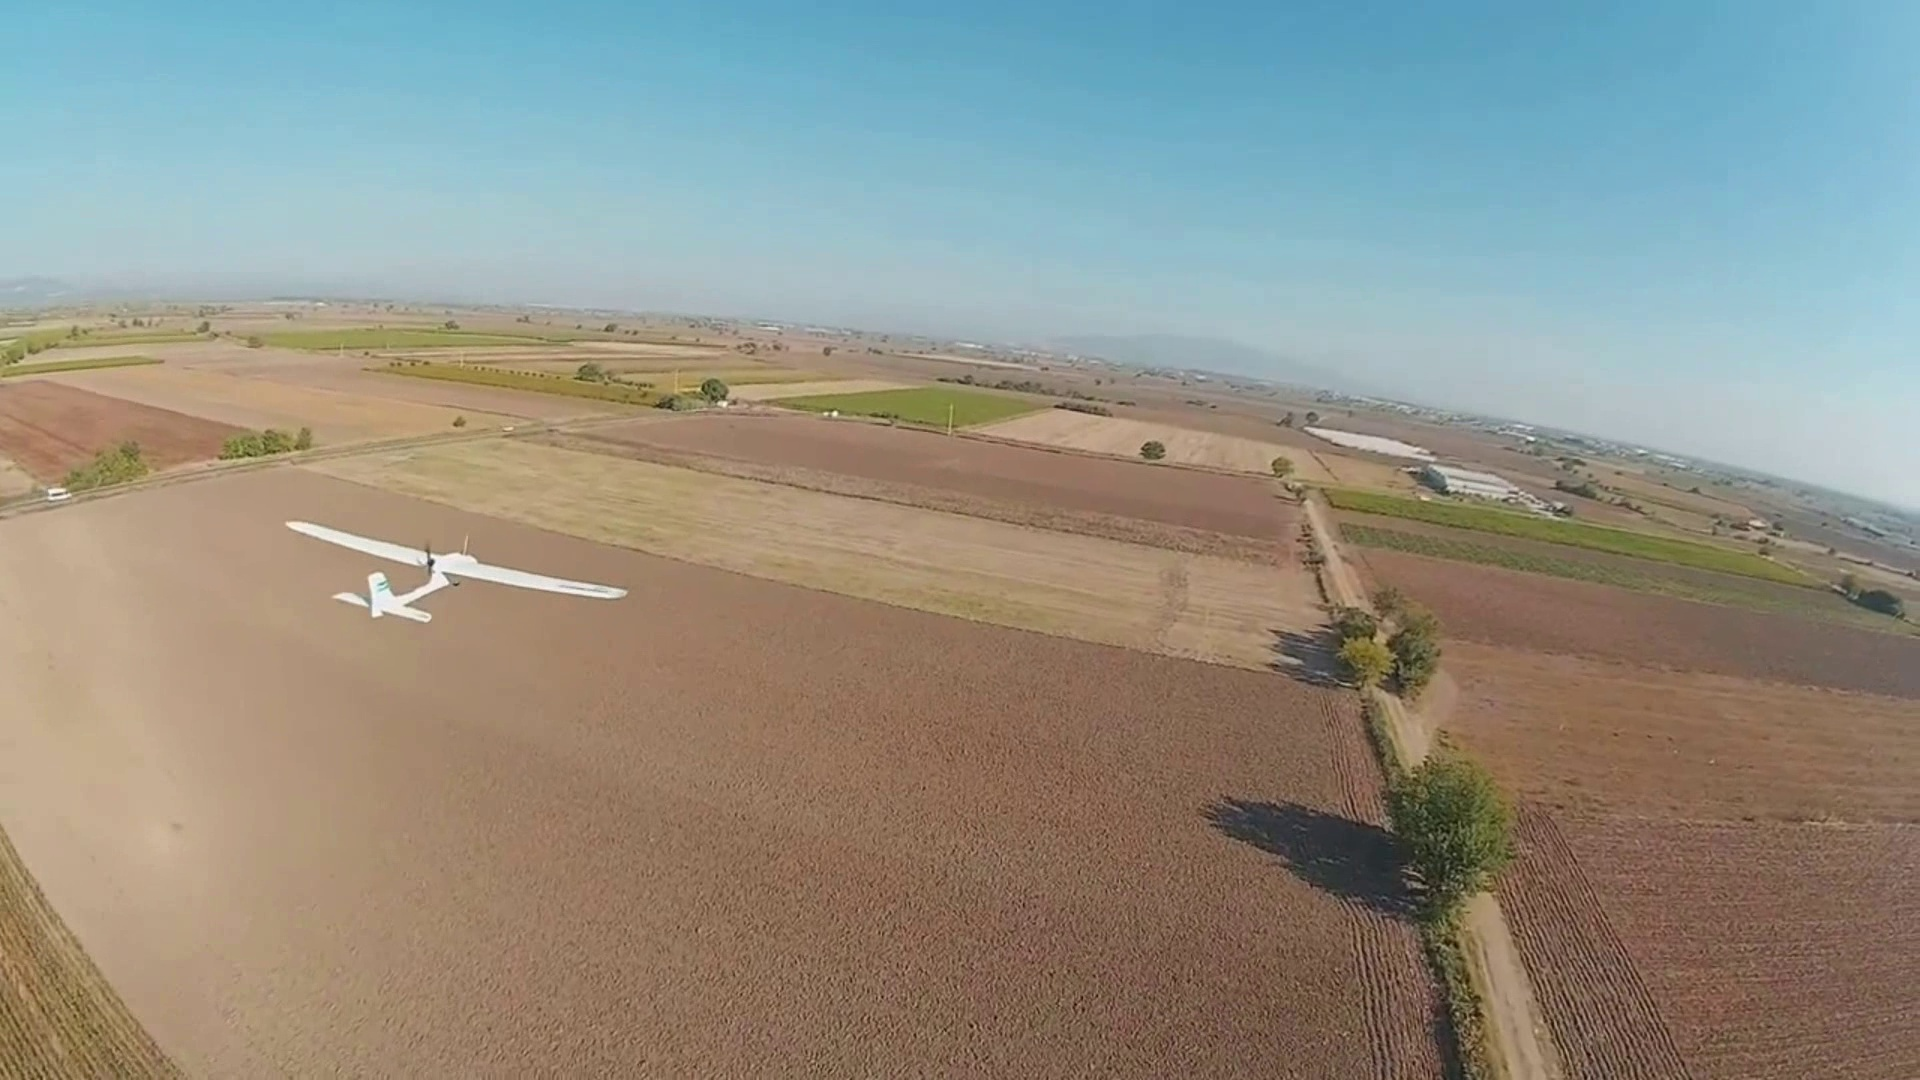airplane: (282, 516, 628, 621)
